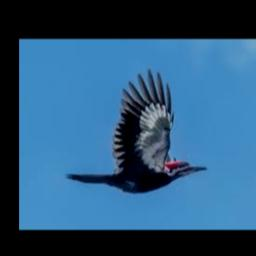Woodpecker: (64, 69, 208, 193)
